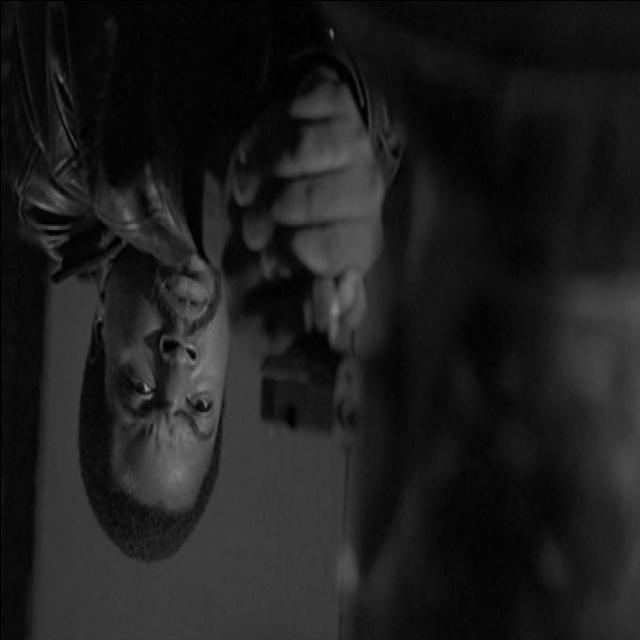weapons: (246, 156, 368, 456)
